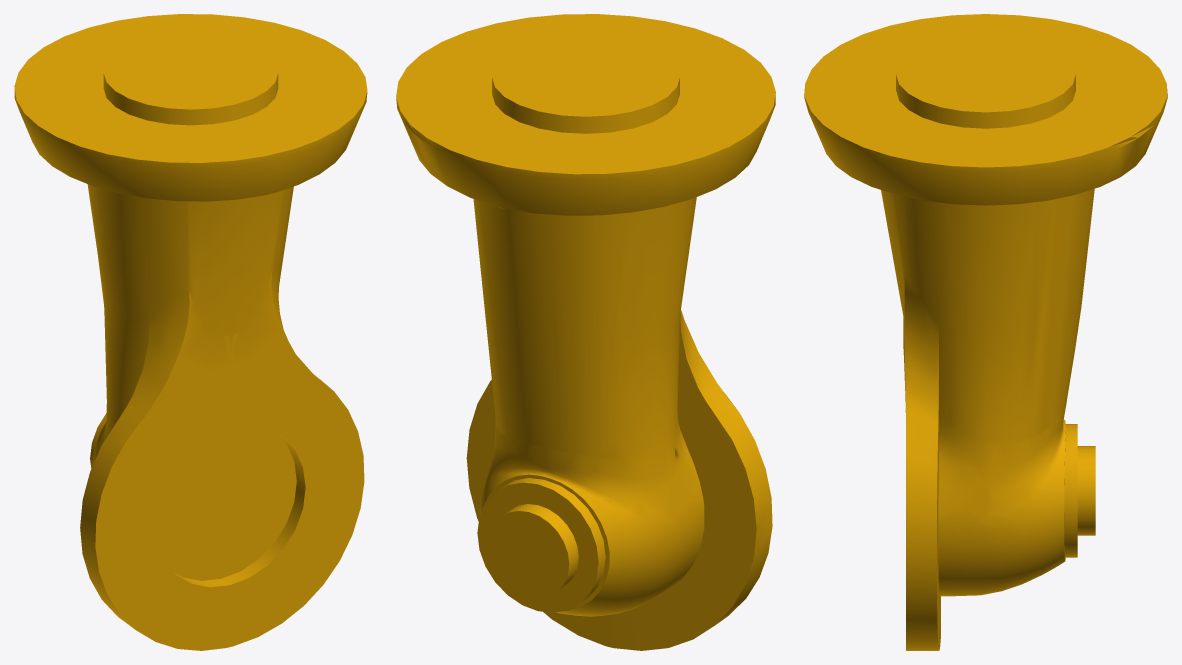
3 renders of one model, left to right at view 1: azimuth 30°, elevation 25°; view 2: azimuth 150°, elevation 25°; view 3: azimuth 270°, elevation 25°, orthographic. The views are drawn at different scales.
Parts seen in each view (by area): view 1: KR210R3100_Link4; view 2: KR210R3100_Link4; view 3: KR210R3100_Link4.
Boxes of the visible parts, box(x1,y1,x2,y2) form: KR210R3100_Link4: box(14, 14, 367, 650); KR210R3100_Link4: box(396, 14, 775, 650); KR210R3100_Link4: box(804, 14, 1167, 650).
Bounding box in the file's own units: 0.202 × 0.2019 × 0.3446.
